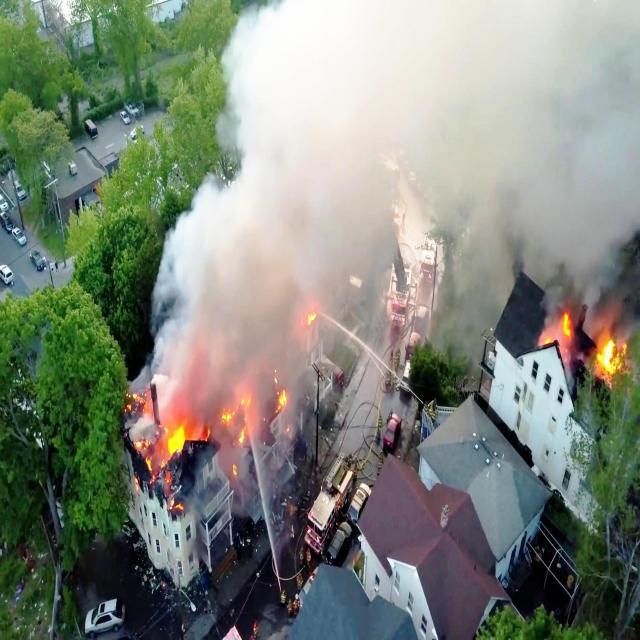Fire: (602, 328, 628, 420), (166, 428, 188, 466)
Smoke: (262, 12, 637, 217)
